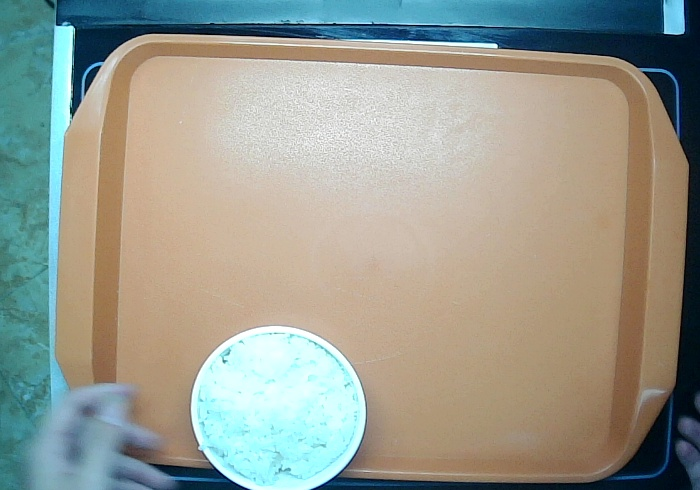HZYJPL-Fan_Wan: (187, 323, 368, 490)
